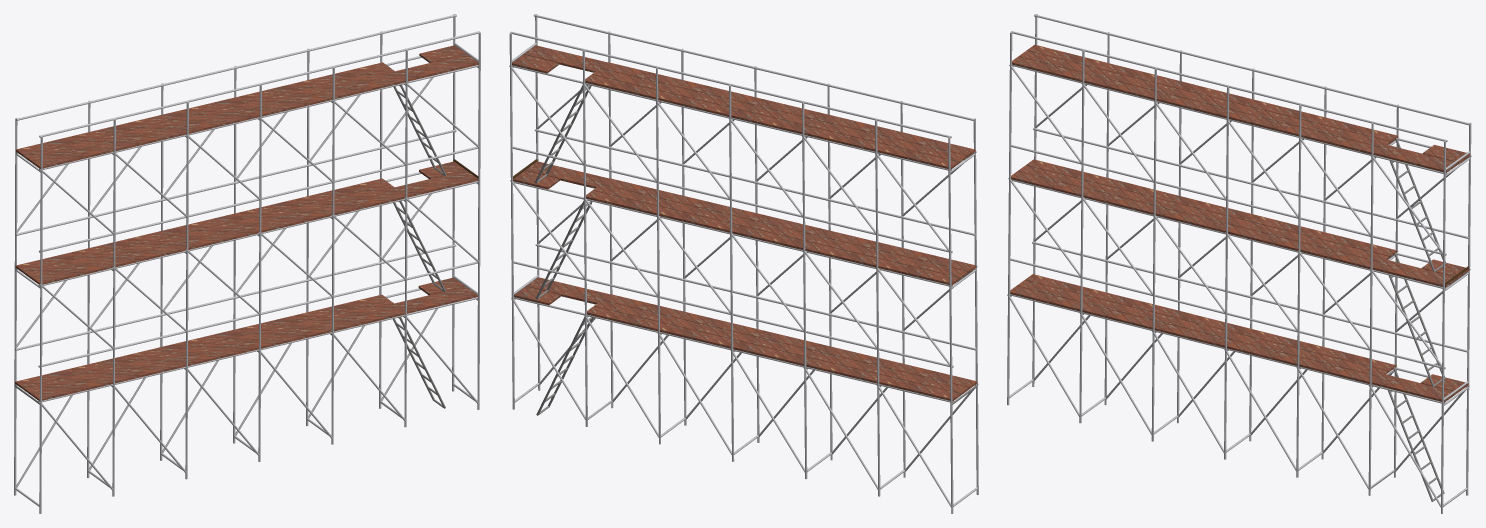
The model's file is scaffold-run.glb.
3 views of the same model, side by side, from view 1: azimuth 30°, elevation 25°; view 2: azimuth 150°, elevation 25°; view 3: azimuth 330°, elevation 25° (orthographic).
Parts seen in each view (by area): view 1: Metal Scaffolding; view 2: Metal Scaffolding; view 3: Metal Scaffolding.
Boxes of the visible parts, x1,y1,x2,y2 form: Metal Scaffolding: (14, 14, 480, 513); Metal Scaffolding: (509, 14, 978, 513); Metal Scaffolding: (1007, 14, 1471, 513).
Size of the model in its own units: 7.89 by 6.49 by 0.8481.
Materials: 5 (3 with a texture image).
